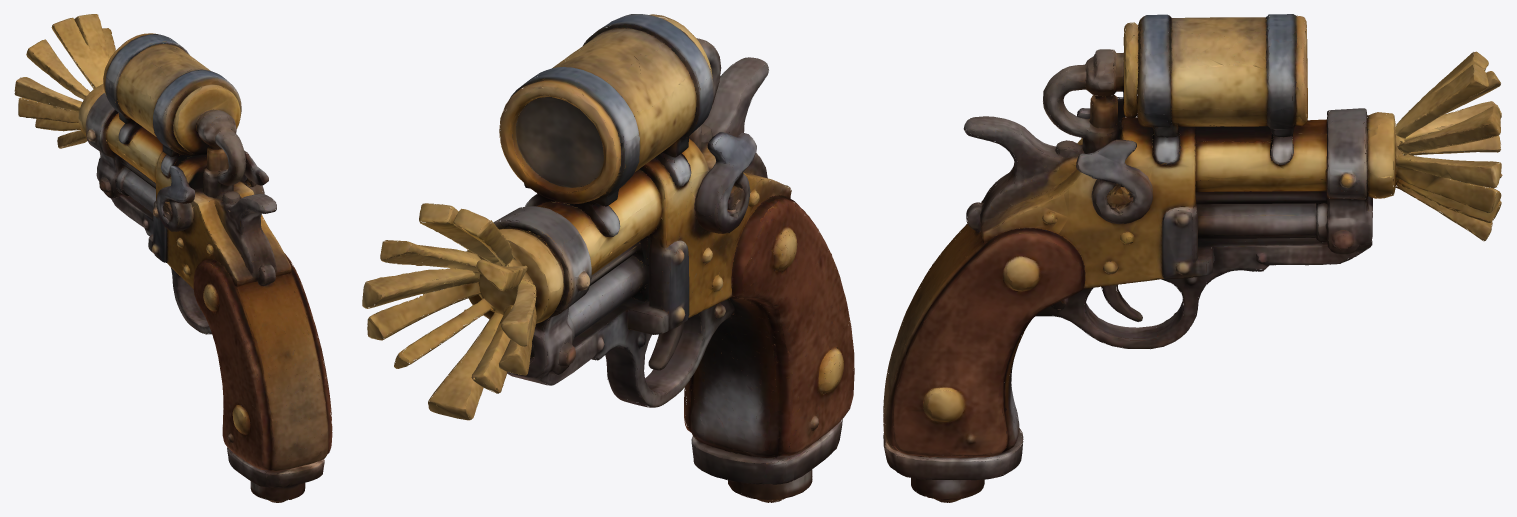
The model's file is crop_duster.glb.
3 views of the same model, side by side, from view 1: azimuth 30°, elevation 25°; view 2: azimuth 150°, elevation 25°; view 3: azimuth 270°, elevation 25° (orthographic). The views are drawn at different scales.
Visible parts, largest first — view 1: body; view 2: body; view 3: body.
Part boxes in pixels (x1,y1,x2,y2): body: (14,14,332,502); body: (362,14,854,502); body: (883,14,1502,502).
Size of the model in its own units: 0.0926 by 0.3047 by 0.3564.
1 material, 1 textured.
